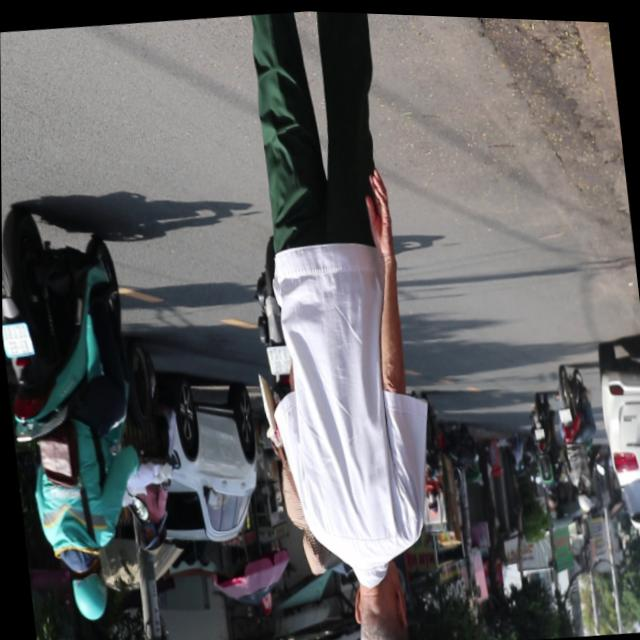helmet: (65, 553, 110, 624)
licenseplate: (1, 196, 161, 633)
nohelmet: (2, 322, 33, 360), (265, 342, 292, 374)
